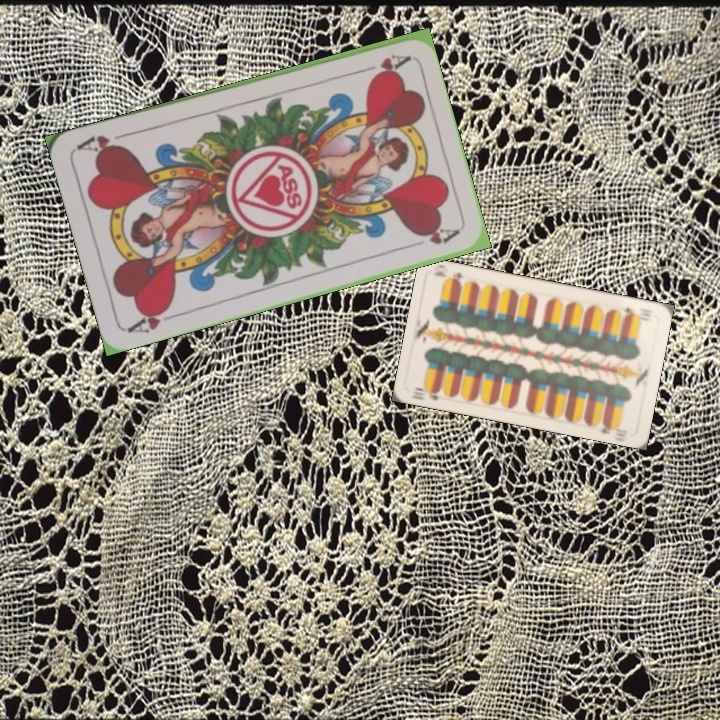E10: (411, 383, 443, 403), (621, 303, 652, 319)
HA: (124, 301, 182, 336), (353, 50, 411, 78)
